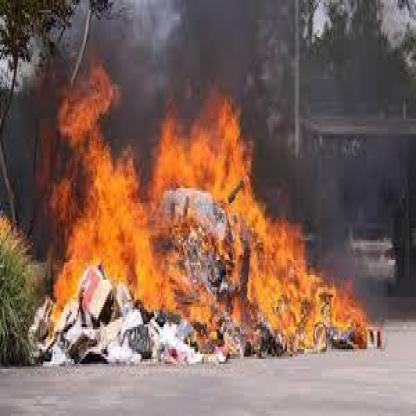fire: (39, 62, 372, 357)
smoke: (116, 13, 170, 108), (196, 11, 254, 82)
